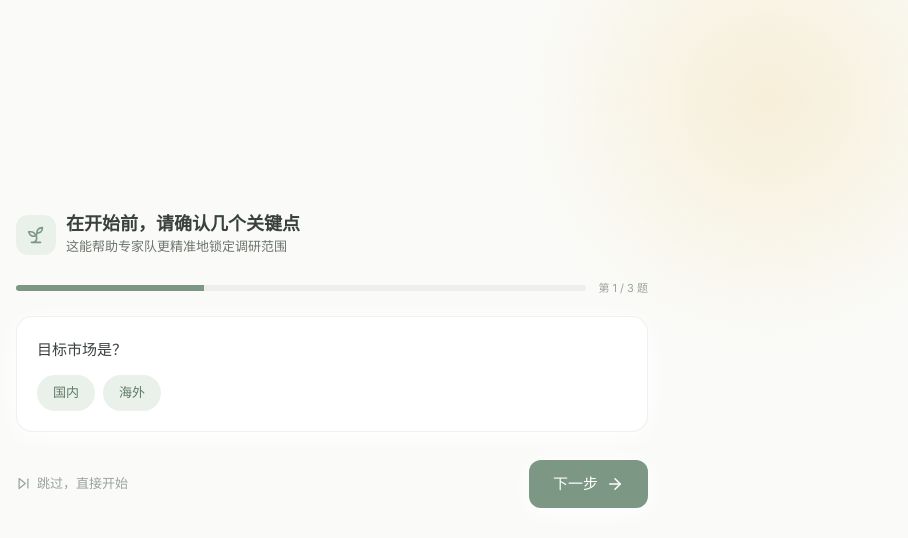
Scenario: T-AutoAdvance 自动前进（单选 + 多选） › TC-AA2 选中后手动点「下一步」不双跳（仍仅前进 1 步）
Expected: the text "目标市场是？" is shown, [37,340,127,359]
Click the button "国内" at [66, 392], box [37,374,95,410]
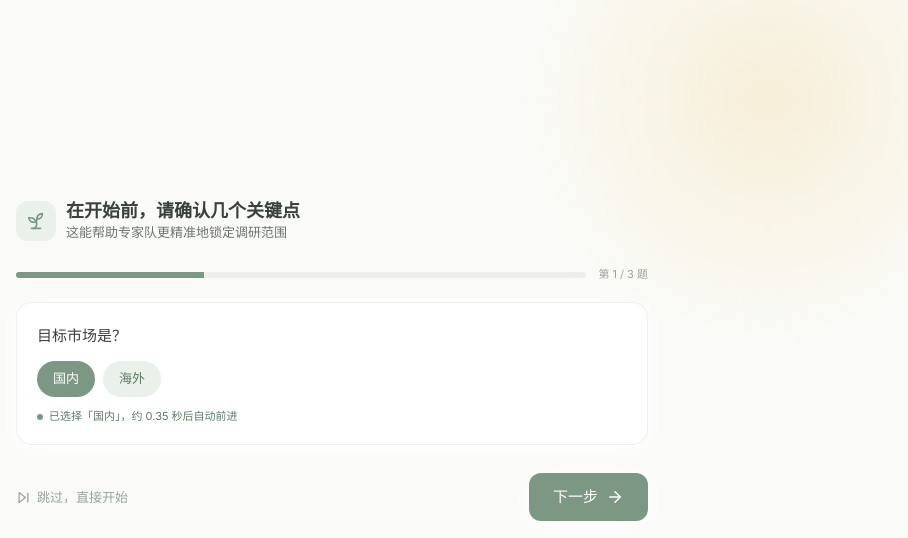
Click the button "下一步" at [588, 497], box [529,473,648,521]
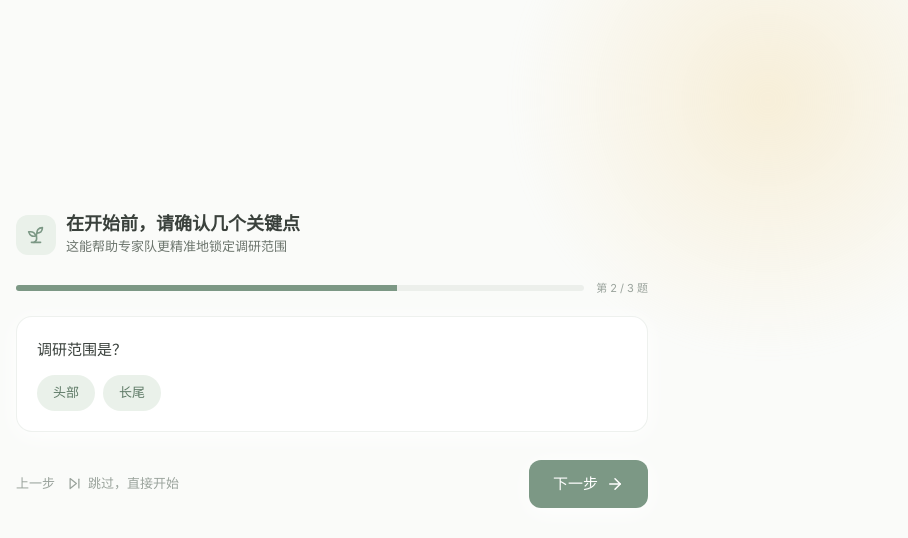
Now the text "调研范围是？" is shown, box [37,340,127,359]
